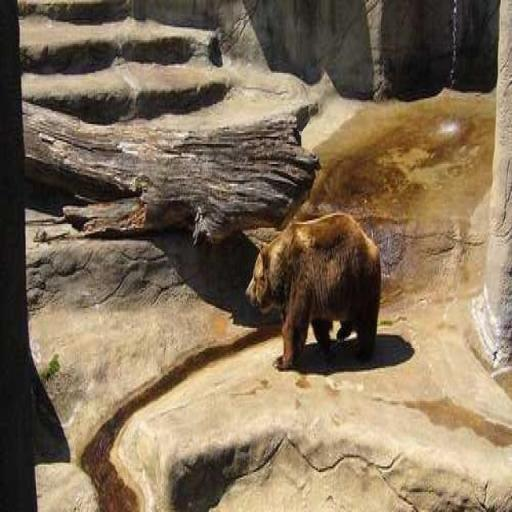Bear: (245, 210, 381, 370)
